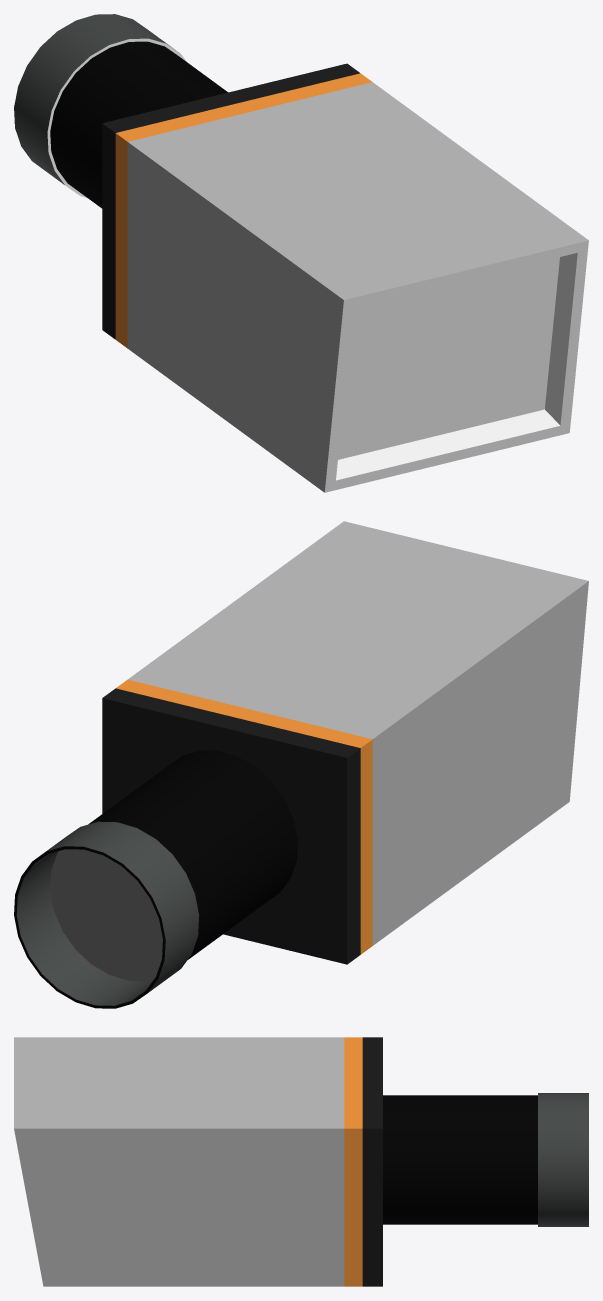
Rendered from xenics.dae.
3 views of the same model, one above another, from view 1: azimuth 30°, elevation 25°; view 2: azimuth 150°, elevation 25°; view 3: azimuth 270°, elevation 25° (orthographic). The views are drawn at different scales.
Visible parts, largest first — view 1: Camera (×8); view 2: Camera (×8); view 3: Camera (×5).
Part boxes in pixels (box(x1,y1,x2,y2)): Camera (×8): box(14, 14, 588, 492); Camera (×8): box(14, 521, 588, 1008); Camera (×5): box(14, 1037, 588, 1286).
Size of the model in its own units: 1.76 by 4.68 by 1.42.
